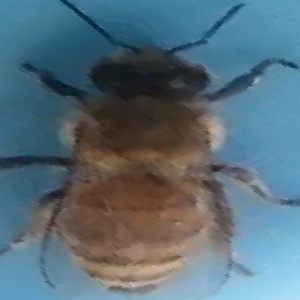bee: (23, 6, 287, 297)
